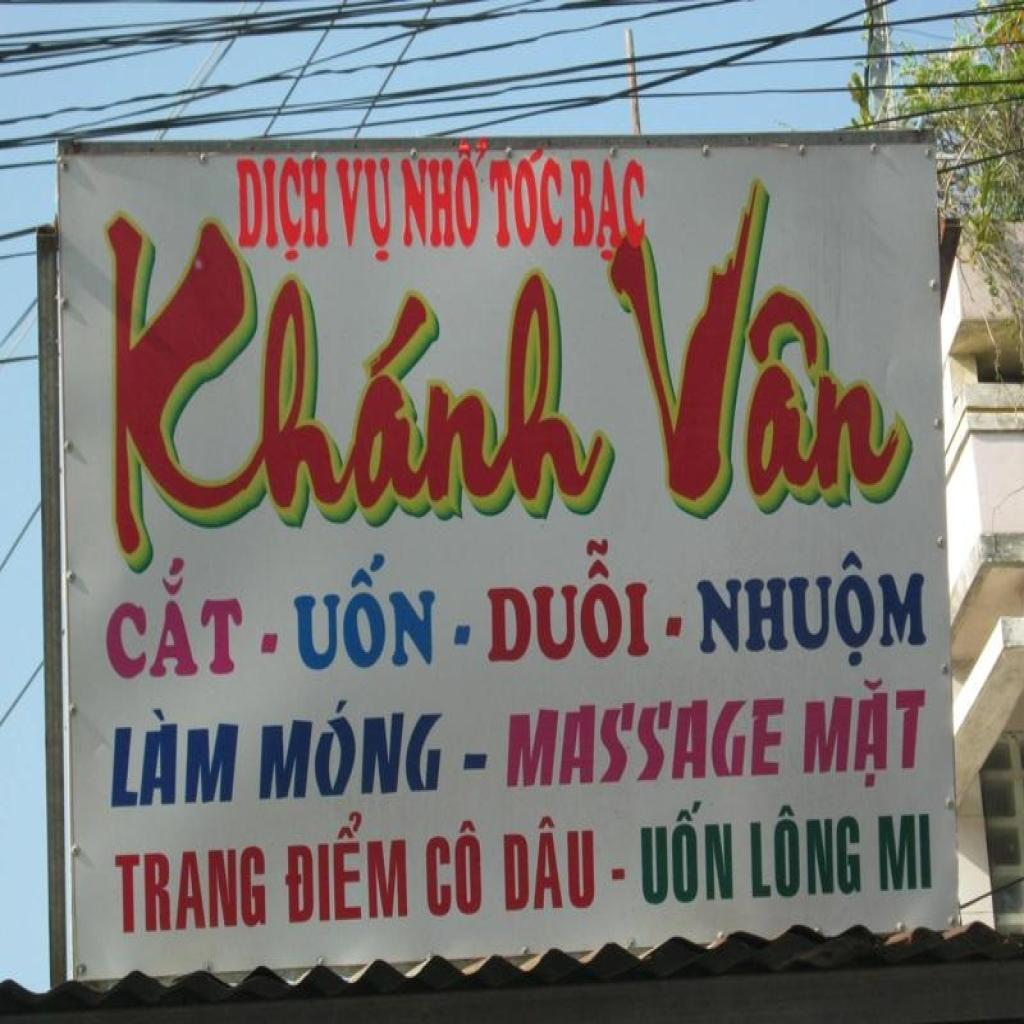text: (102, 194, 630, 586), (584, 157, 920, 527), (694, 541, 933, 681), (502, 690, 790, 794), (483, 532, 686, 670), (256, 691, 497, 806), (98, 549, 286, 693), (289, 542, 475, 678), (798, 672, 936, 794), (282, 804, 412, 930), (106, 700, 247, 816), (111, 840, 270, 938), (500, 811, 630, 918), (746, 800, 866, 904), (638, 796, 738, 912), (398, 130, 493, 252), (234, 154, 333, 268), (486, 140, 567, 254), (568, 154, 649, 266), (332, 154, 396, 266), (424, 814, 488, 923)
